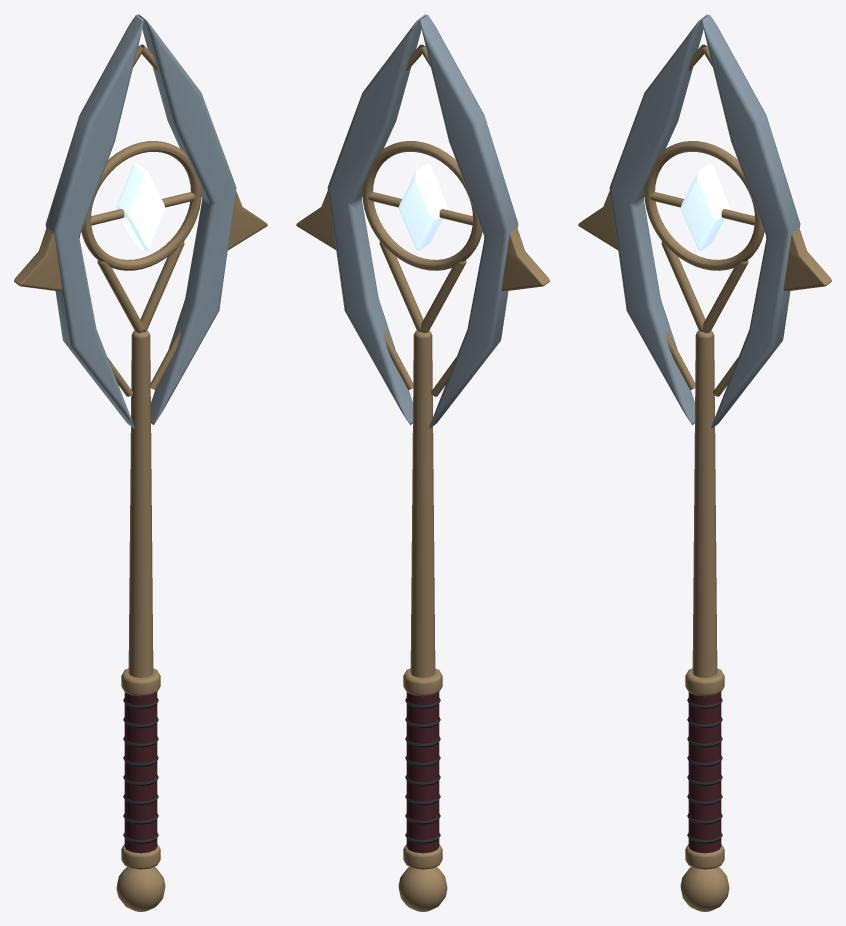
The model's file is sunseal.glb.
3 renders of one model, left to right at view 1: azimuth 30°, elevation 25°; view 2: azimuth 150°, elevation 25°; view 3: azimuth 330°, elevation 25°, orthographic.
Visible parts, largest first — view 1: Swept cathedral halo frame, Swept cathedral halo frame.001, Tapered scepter stem, Leather grip.007, Inner sanctified halo, Luminous sunseal jewel, Pommel.007, Connected sunseal wing, Connected sunseal wing.001, Halo lower brace.001, Halo lower brace, Grip collar.015 (+2 smaller); view 2: Swept cathedral halo frame, Swept cathedral halo frame.001, Tapered scepter stem, Leather grip.007, Inner sanctified halo, Luminous sunseal jewel, Pommel.007, Connected sunseal wing, Connected sunseal wing.001, Halo lower brace.001, Halo lower brace, Grip collar.015 (+2 smaller); view 3: Swept cathedral halo frame.001, Swept cathedral halo frame, Tapered scepter stem, Leather grip.007, Inner sanctified halo, Luminous sunseal jewel, Pommel.007, Connected sunseal wing.001, Connected sunseal wing, Halo lower brace, Halo lower brace.001, Grip collar.015 (+2 smaller).
Boxes of the visible parts, left/top/right/bottom form: Swept cathedral halo frame: left=45, top=14, right=143, bottom=428; Swept cathedral halo frame.001: left=138, top=14, right=236, bottom=424; Tapered scepter stem: left=128, top=330, right=153, bottom=677; Leather grip.007: left=124, top=692, right=157, bottom=853; Inner sanctified halo: left=81, top=141, right=201, bottom=270; Luminous sunseal jewel: left=116, top=163, right=165, bottom=251; Pommel.007: left=116, top=867, right=165, bottom=911; Connected sunseal wing: left=14, top=228, right=62, bottom=291; Connected sunseal wing.001: left=227, top=190, right=267, bottom=250; Halo lower brace.001: left=140, top=241, right=184, bottom=331; Halo lower brace: left=97, top=260, right=143, bottom=332; Grip collar.015: left=121, top=668, right=160, bottom=696; Swept cathedral halo frame: left=420, top=14, right=518, bottom=428; Swept cathedral halo frame.001: left=327, top=14, right=425, bottom=424; Tapered scepter stem: left=410, top=330, right=435, bottom=677; Leather grip.007: left=406, top=692, right=439, bottom=853; Inner sanctified halo: left=362, top=141, right=482, bottom=270; Luminous sunseal jewel: left=398, top=163, right=447, bottom=251; Pommel.007: left=398, top=867, right=447, bottom=911; Connected sunseal wing: left=501, top=228, right=549, bottom=291; Connected sunseal wing.001: left=296, top=190, right=335, bottom=249; Halo lower brace.001: left=379, top=241, right=423, bottom=331; Halo lower brace: left=420, top=260, right=466, bottom=332; Grip collar.015: left=403, top=668, right=442, bottom=696; Swept cathedral halo frame.001: left=702, top=14, right=800, bottom=428; Swept cathedral halo frame: left=609, top=14, right=707, bottom=424; Tapered scepter stem: left=692, top=330, right=717, bottom=677; Leather grip.007: left=688, top=692, right=721, bottom=853; Inner sanctified halo: left=644, top=141, right=764, bottom=270; Luminous sunseal jewel: left=680, top=163, right=729, bottom=251; Pommel.007: left=680, top=867, right=729, bottom=911; Connected sunseal wing.001: left=783, top=228, right=831, bottom=291; Connected sunseal wing: left=578, top=190, right=618, bottom=250; Halo lower brace: left=661, top=241, right=705, bottom=331; Halo lower brace.001: left=702, top=260, right=748, bottom=332; Grip collar.015: left=685, top=668, right=724, bottom=696.
Bounding box in the file's own units: 0.4352 × 1.49 × 0.075.
